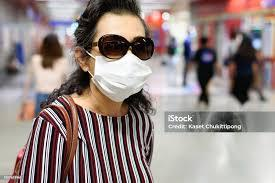mask: (89, 50, 158, 101)
sunglasses: (93, 32, 162, 63)
